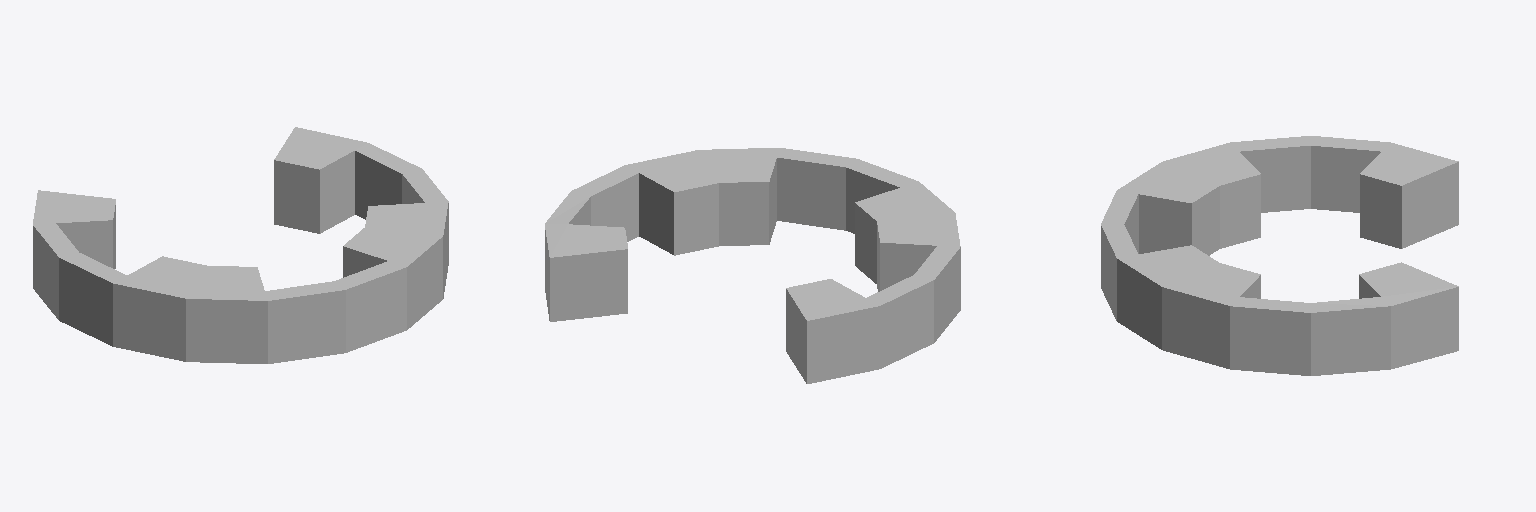
Rendered from bumper_cage_v2.obj.
3 views of the same model, side by side, from view 1: azimuth 30°, elevation 25°; view 2: azimuth 150°, elevation 25°; view 3: azimuth 270°, elevation 25° (orthographic).
Parts seen in each view (by area): view 1: Cylinder.001_Cylinder.003; view 2: Cylinder.001_Cylinder.003; view 3: Cylinder.001_Cylinder.003.
Part boxes in pixels (x1,y1,x2,y2): Cylinder.001_Cylinder.003: (33, 127, 448, 363); Cylinder.001_Cylinder.003: (545, 148, 960, 383); Cylinder.001_Cylinder.003: (1101, 136, 1458, 375).
Bounding box in the file's own units: 2.4 × 0.4062 × 2.05.